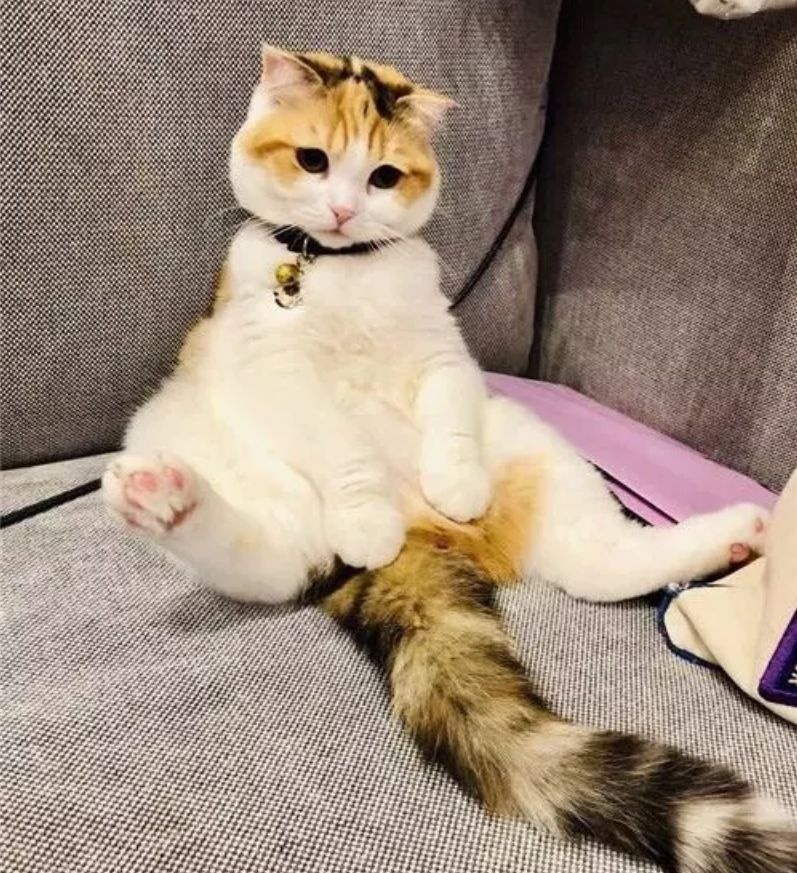cat: (103, 39, 797, 873)
